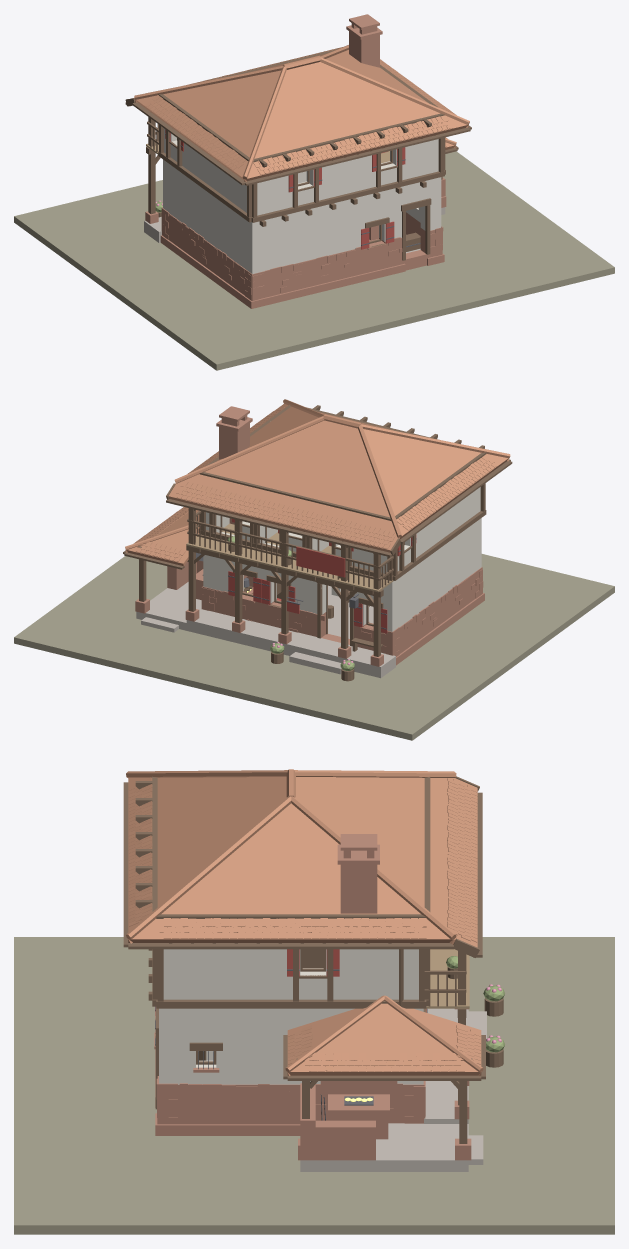
Rendered from tavern-13-gallery.glb.
The picture shows the model from 3 angles, top to bottom: view 1: azimuth 30°, elevation 25°; view 2: azimuth 150°, elevation 25°; view 3: azimuth 270°, elevation 25°; orthographic projection. The views are drawn at different scales.
Visible parts, largest first — view 1: zemlya__m00, krysha__m03, obolochka__m01, obolochka__m00, obolochka__m02, krysha__m02, krysha__m00, obolochka__m05; view 2: zemlya__m00, krysha__m03, obolochka__m02, obolochka__m01, obolochka__m00, obolochka__m11, krysha__m02, obolochka__m05, obolochka__m09, krysha__m00, poly__m11, melochi__m02; view 3: zemlya__m00, krysha__m03, obolochka__m01, obolochka__m00, obolochka__m02, obolochka__m11, krysha__m02, krysha__m00, mebel__m00, obolochka__m09, melochi__m02, melochi__m07.
Boxes of the visible parts, x1,y1,x2,y2 form: zemlya__m00: (14,151,614,370); krysha__m03: (131,45,469,181); obolochka__m01: (163,128,441,273); obolochka__m00: (145,177,446,308); obolochka__m02: (146,48,445,260); krysha__m02: (125,98,471,185); krysha__m00: (346,14,382,67); obolochka__m05: (165,129,405,249); zemlya__m00: (14,554,614,740); krysha__m03: (125,399,510,566); obolochka__m02: (137,405,486,656); obolochka__m01: (203,487,481,631); obolochka__m00: (135,560,484,666); obolochka__m11: (136,582,395,678); krysha__m02: (123,459,512,569); obolochka__m05: (228,518,416,633); obolochka__m09: (186,536,393,592); krysha__m00: (216,406,252,459); poly__m11: (328,585,373,638); melochi__m02: (228,544,382,681); zemlya__m00: (14,937,614,1234); krysha__m03: (126,769,483,1075); obolochka__m01: (159,949,423,1084); obolochka__m00: (154,1008,471,1160); obolochka__m02: (135,776,472,1143); obolochka__m11: (300,1008,486,1171); krysha__m02: (123,776,485,1080); krysha__m00: (337,834,379,913); mebel__m00: (320,1081,397,1139); obolochka__m09: (426,949,469,1008); melochi__m02: (447,967,503,1067); melochi__m07: (446,956,504,1052).
Size of the model in its own units: 18.65 by 8.96 by 16.43.
